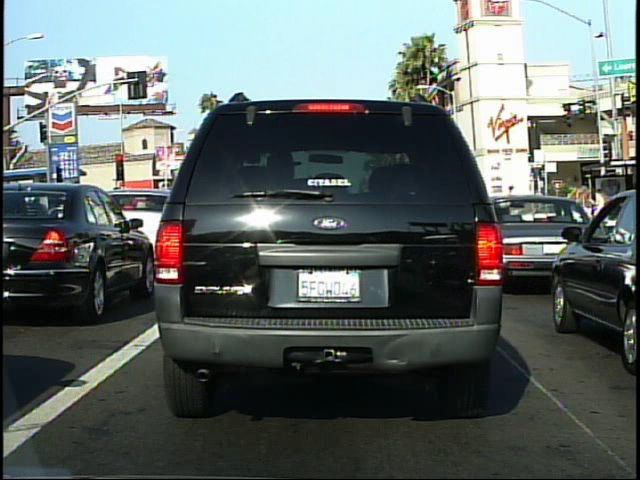person: (588, 184, 610, 245)
